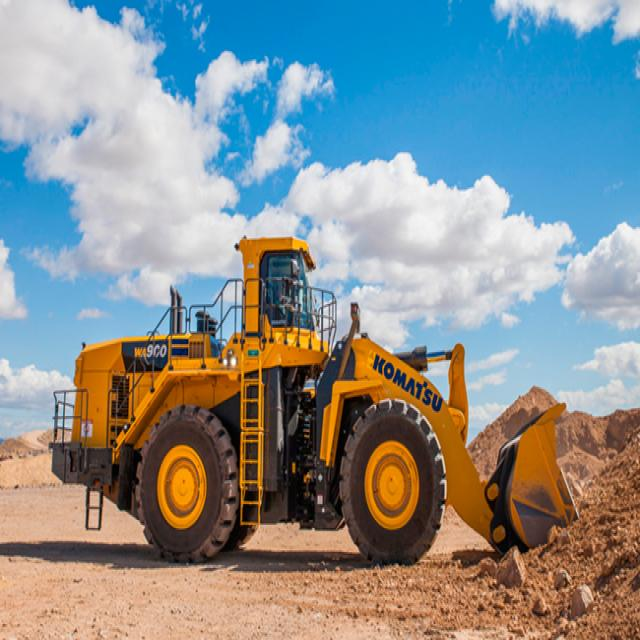buldozerpayloadergrader: (51, 226, 584, 575)
